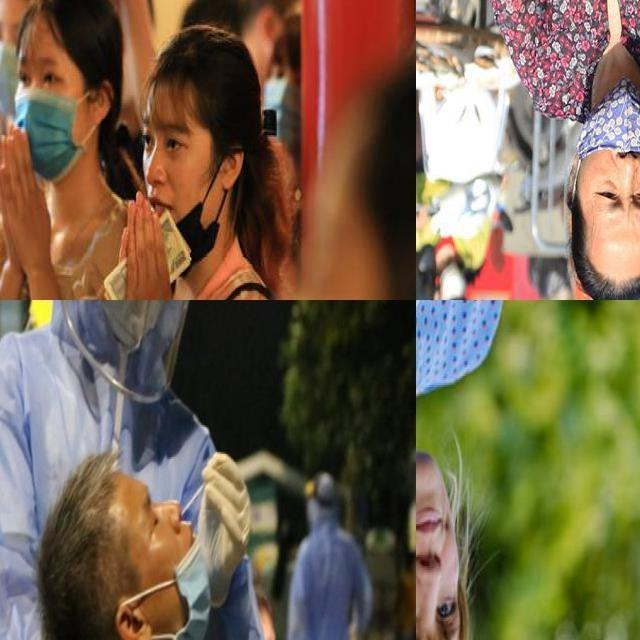hairnet: (145, 155, 243, 264), (158, 496, 210, 639), (578, 86, 640, 177)
no_hairnet: (418, 451, 471, 596)
